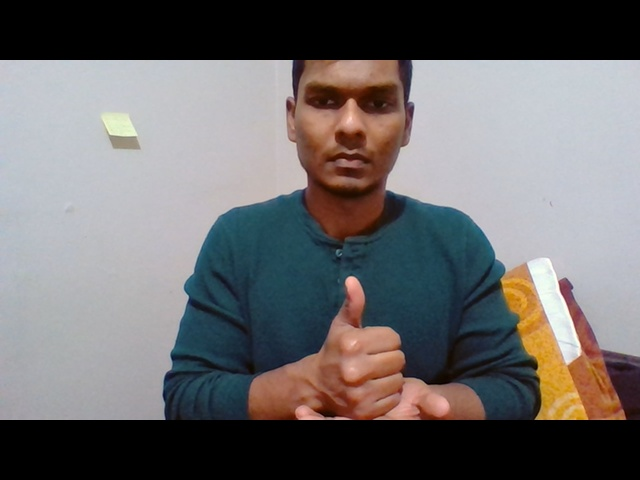Help: (291, 273, 453, 419)
